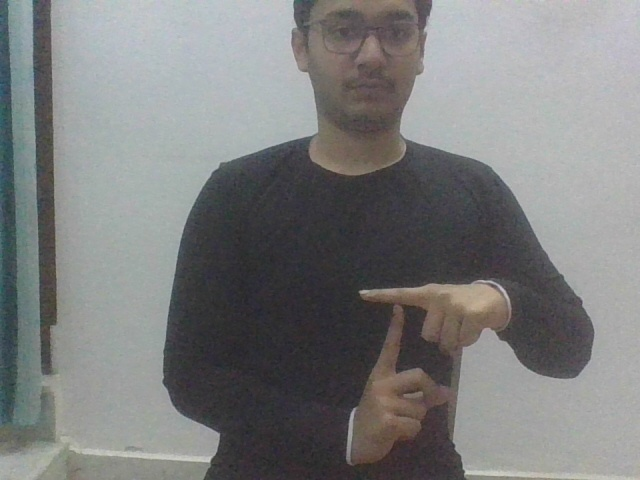T: (345, 278, 510, 466)
